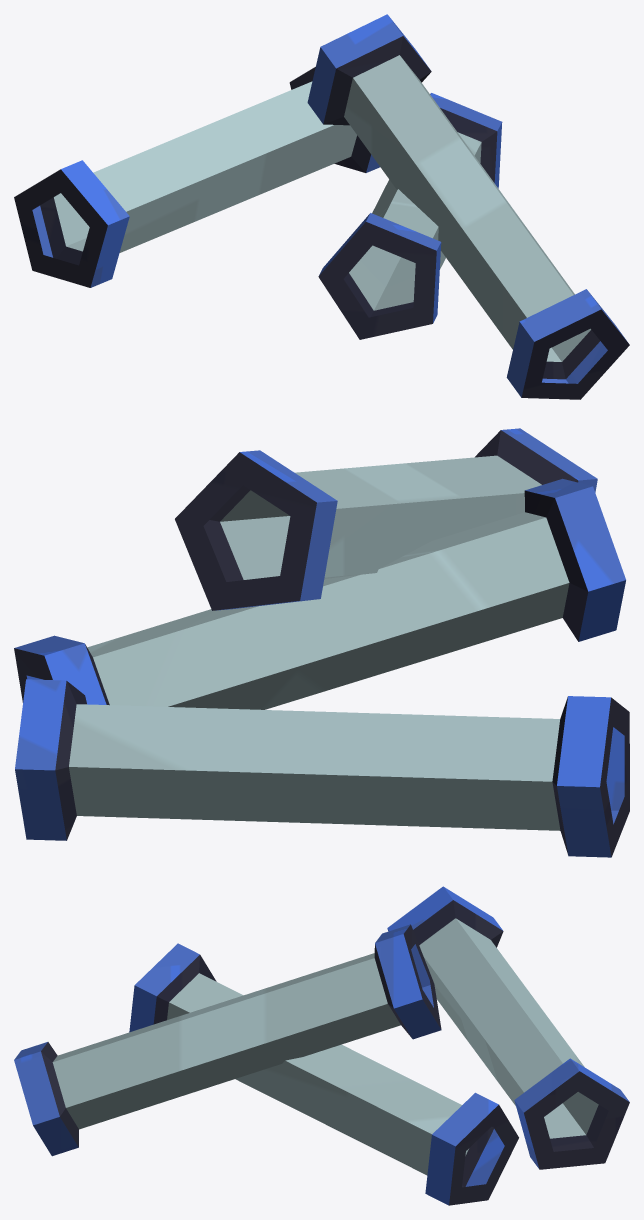
Rendered from Pipes.fbx.
The picture shows the model from 3 angles, top to bottom: view 1: azimuth 30°, elevation 25°; view 2: azimuth 150°, elevation 25°; view 3: azimuth 270°, elevation 25°; orthographic projection. The views are drawn at different scales.
Parts seen in each view (by area): view 1: pCylinder6; view 2: pCylinder6; view 3: pCylinder6.
Part boxes in pixels (x1,y1,x2,y2): pCylinder6: (14,14,629,399); pCylinder6: (14,428,629,857); pCylinder6: (14,886,629,1205).
Bounding box in the file's own units: 119 × 61.06 × 149.
